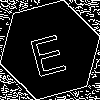E: (25, 25, 69, 78)
